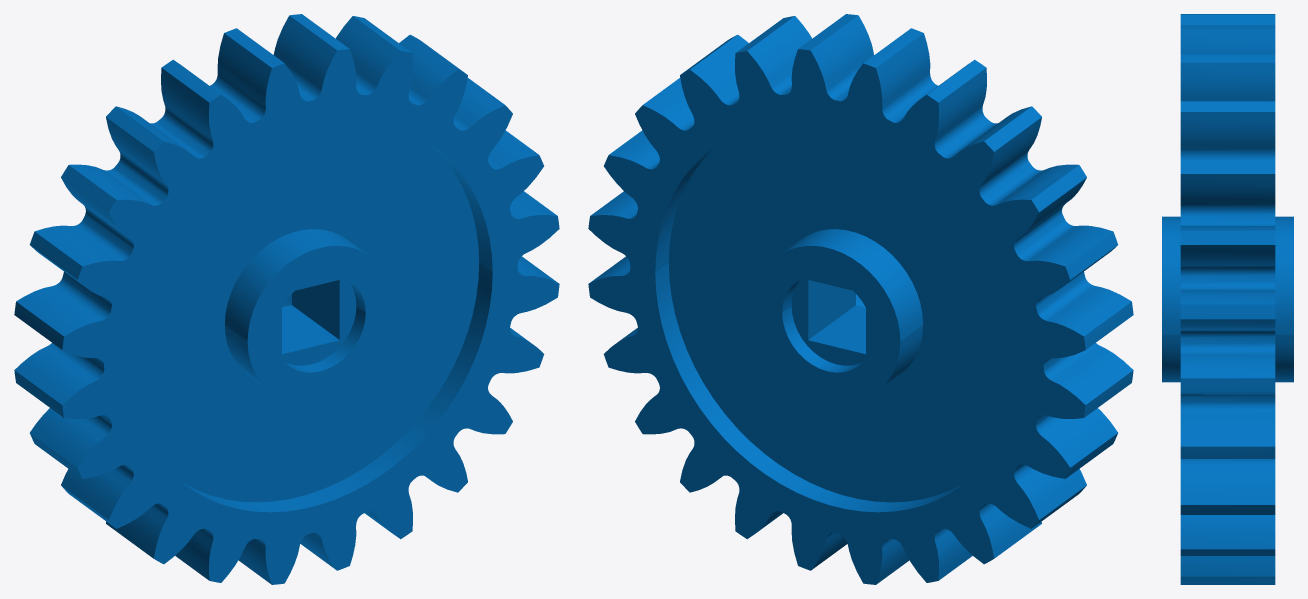
File: 24 Tooth Gear (228-2500-227).glb
3 renders of one model, left to right at view 1: azimuth 30°, elevation 25°; view 2: azimuth 150°, elevation 25°; view 3: azimuth 270°, elevation 25°, orthographic.
Parts seen in each view (by area): view 1: 24 Tooth Gear (228-2500-227); view 2: 24 Tooth Gear (228-2500-227); view 3: 24 Tooth Gear (228-2500-227).
Part boxes in pixels (bbox=[...]): 24 Tooth Gear (228-2500-227): bbox=[14, 14, 559, 584]; 24 Tooth Gear (228-2500-227): bbox=[588, 14, 1133, 584]; 24 Tooth Gear (228-2500-227): bbox=[1162, 14, 1293, 584].
Bounding box in the file's own units: 1.08 × 1.08 × 0.25.
